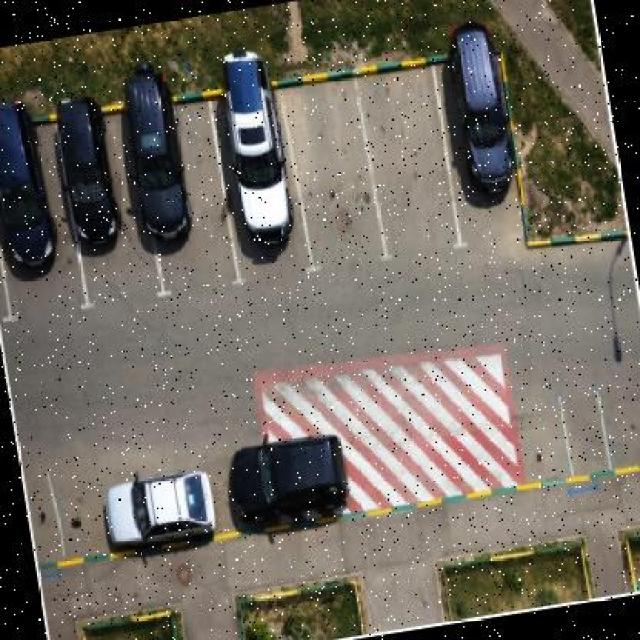Car: (204, 58, 296, 262), (439, 35, 518, 206), (130, 81, 210, 241), (99, 459, 212, 561), (229, 439, 346, 521), (1, 118, 61, 273), (57, 110, 120, 229)
Empty: (293, 84, 367, 249), (367, 74, 443, 223), (516, 399, 561, 475), (615, 394, 640, 460)
